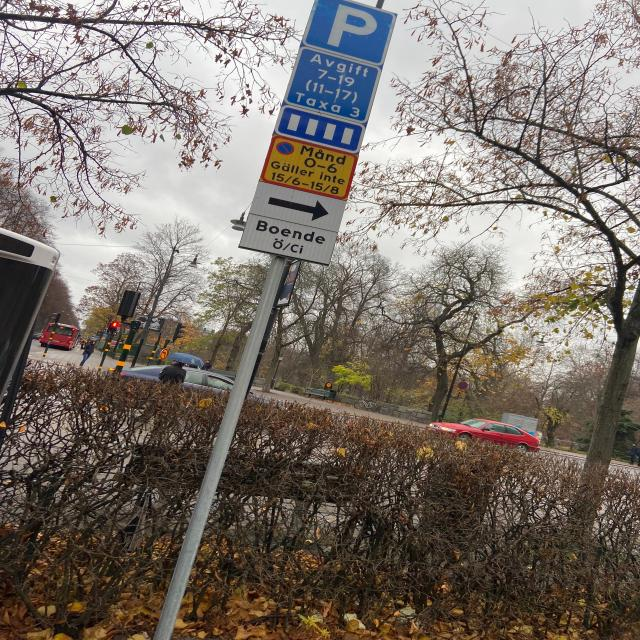psign: (305, 0, 398, 66)
